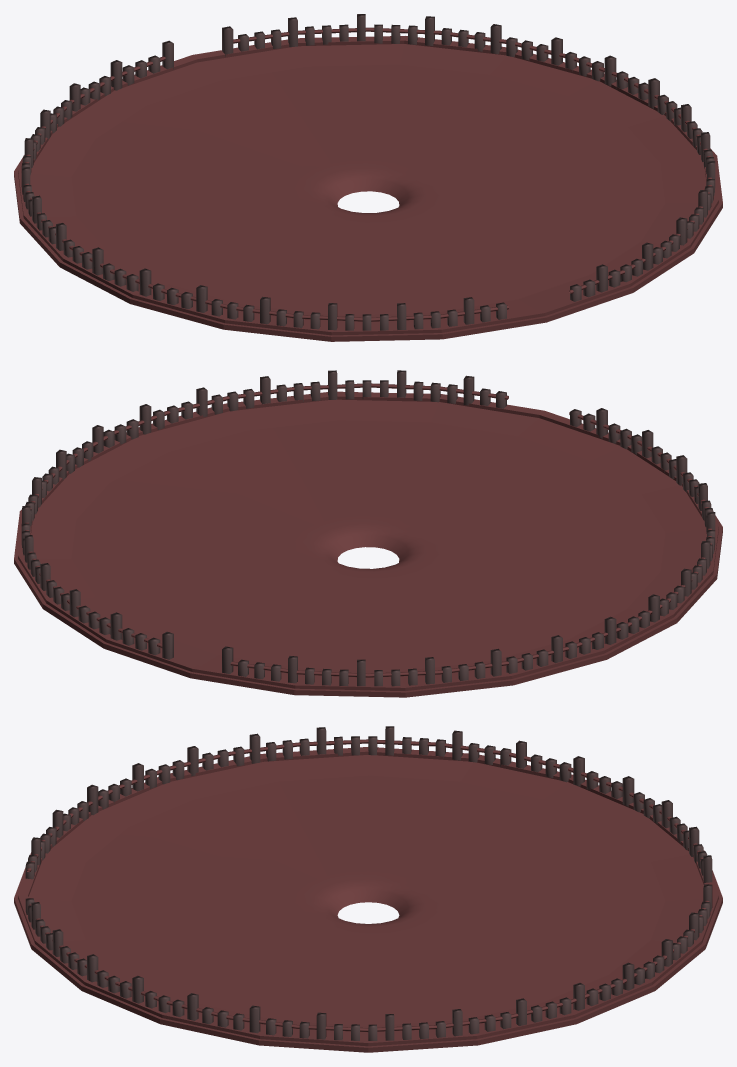
The model's file is PitClean.fbx.
3 views of the same model, one above another, from view 1: azimuth 30°, elevation 25°; view 2: azimuth 150°, elevation 25°; view 3: azimuth 270°, elevation 25° (orthographic).
Parts seen in each view (by area): view 1: pCylinder5; view 2: pCylinder5; view 3: pCylinder5.
Boxes of the visible parts, x1,y1,x2,y2 form: pCylinder5: [14, 14, 722, 341]; pCylinder5: [14, 370, 722, 697]; pCylinder5: [14, 726, 722, 1052].
Bounding box in the file's own units: 2.05 × 0.1392 × 2.05.
